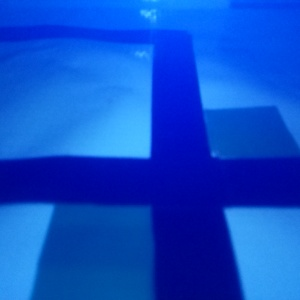top_left: (78, 29, 158, 61)
top_right: (147, 1, 206, 19)
